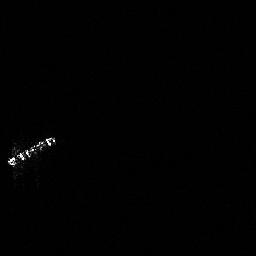ship: (5, 131, 60, 171)
